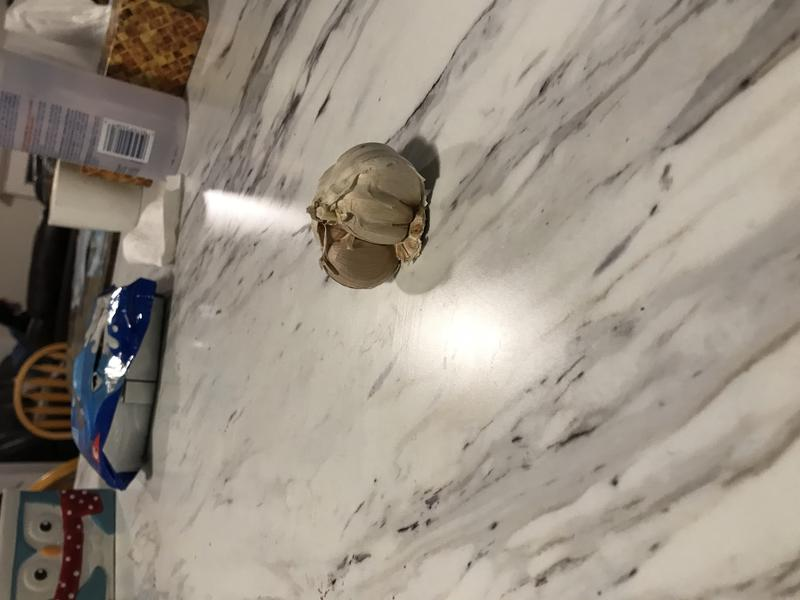garlic: (304, 142, 443, 297)
